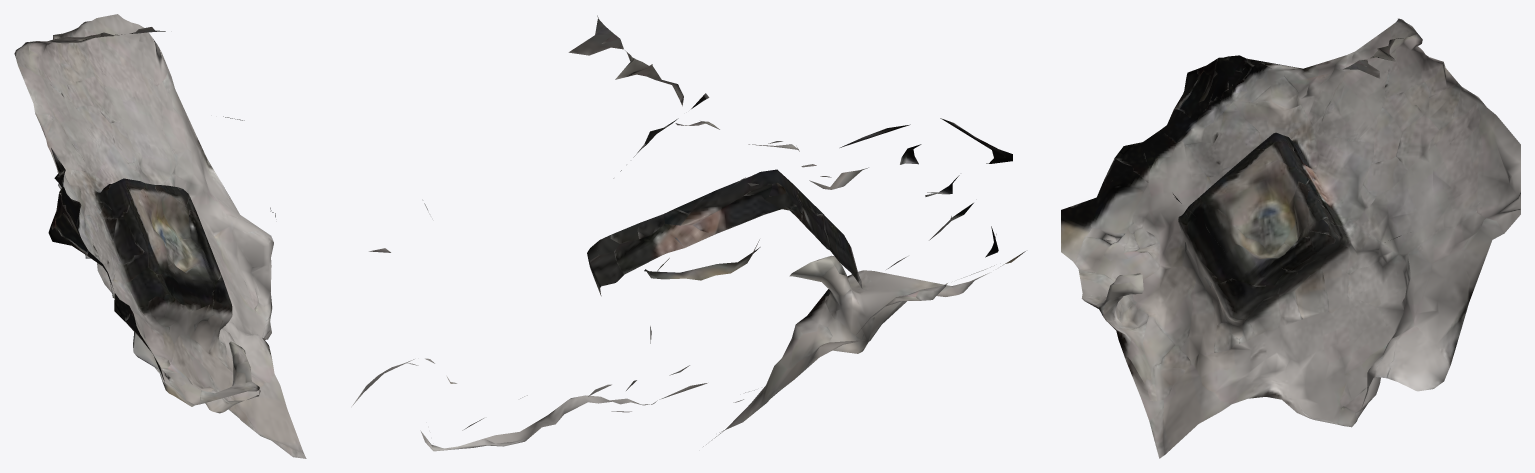
File: hall.glb
3 views of the same model, side by side, from view 1: azimuth 30°, elevation 25°; view 2: azimuth 150°, elevation 25°; view 3: azimuth 270°, elevation 25° (orthographic). The views are drawn at different scales.
Size of the model in its own units: 1.54 by 1.73 by 1.9.
Materials: 1 (1 with a texture image).
